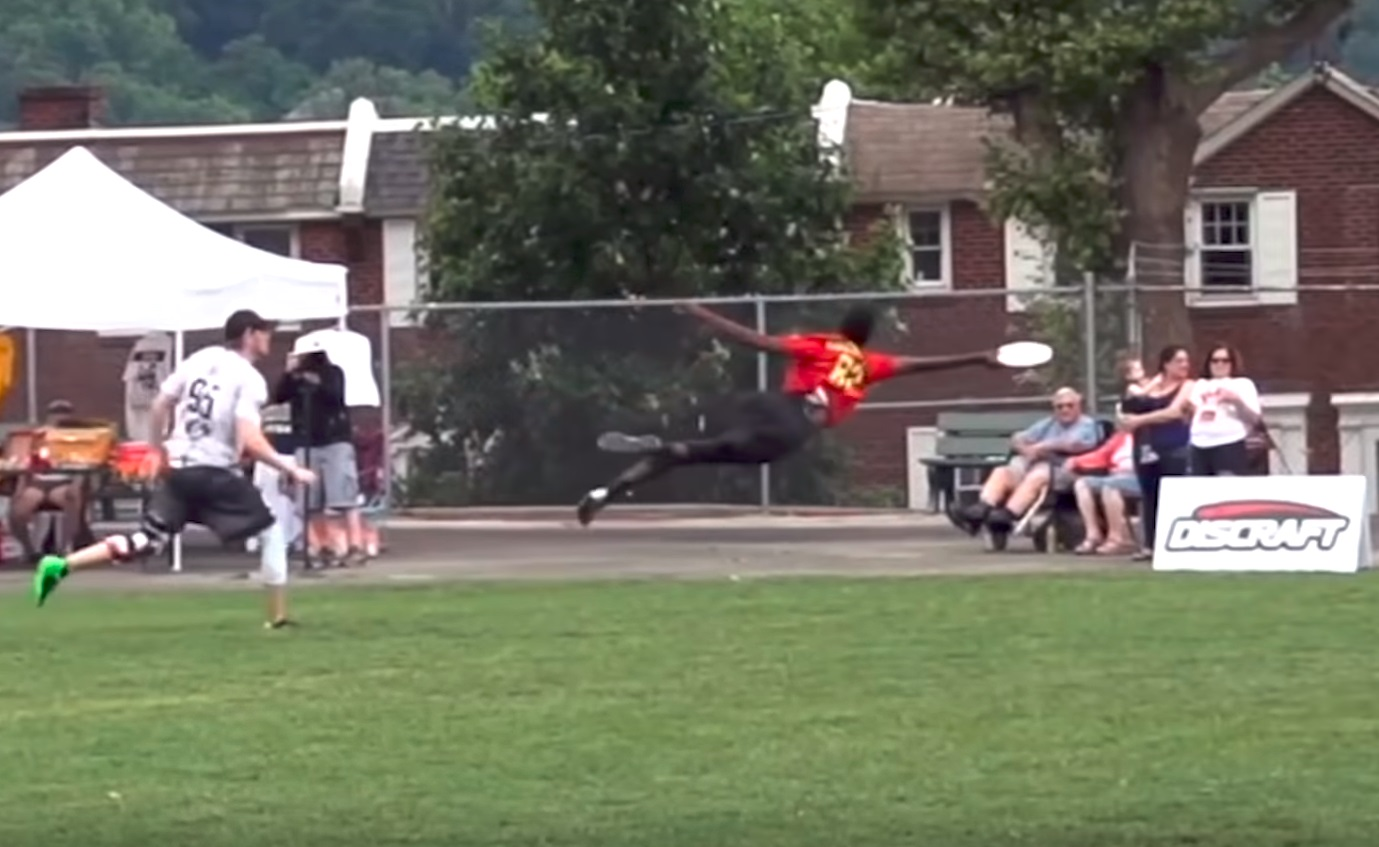frisbee: (996, 340, 1054, 368)
